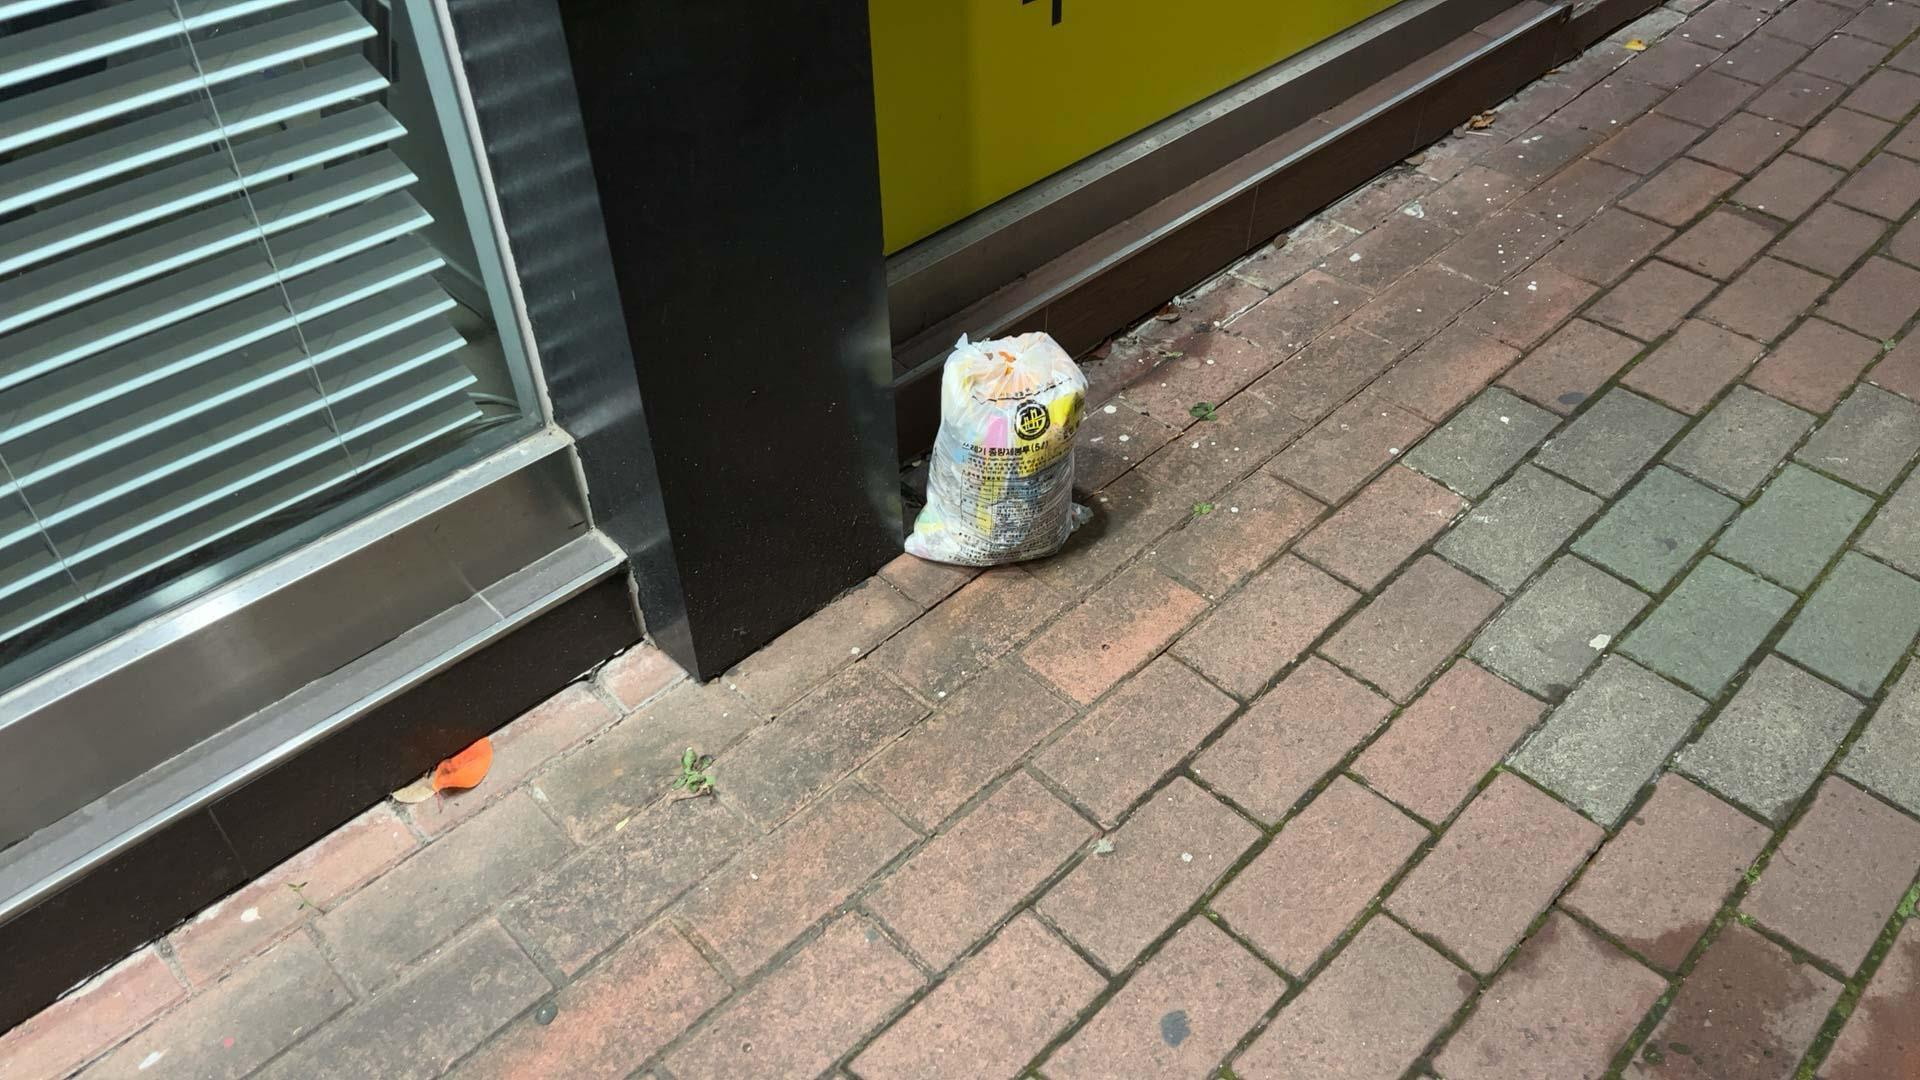white_bag: (901, 324, 1098, 582)
